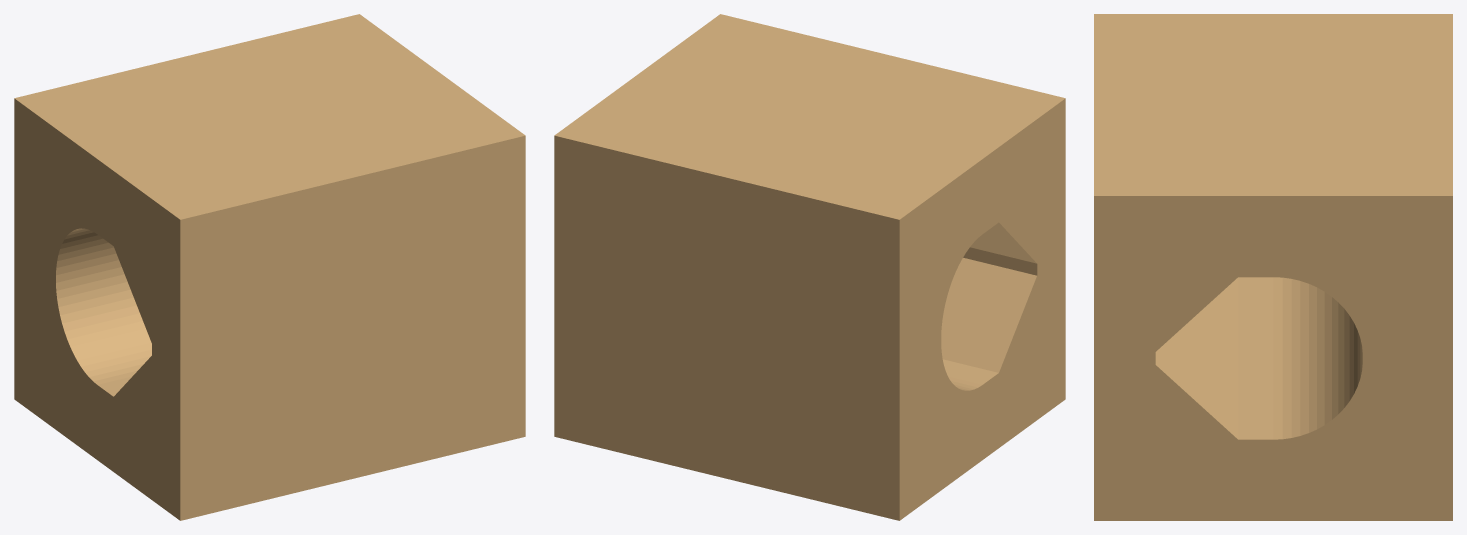
The model's file is ss_bore_demo.glb.
3 renders of one model, left to right at view 1: azimuth 30°, elevation 25°; view 2: azimuth 150°, elevation 25°; view 3: azimuth 270°, elevation 25°, orthographic. The views are drawn at different scales.
Parts seen in each view (by area): view 1: housing_cut; view 2: housing_cut; view 3: housing_cut.
Boxes of the visible parts, <box> form: housing_cut: <box>14,14,525,520</box>; housing_cut: <box>554,14,1065,520</box>; housing_cut: <box>1094,14,1452,520</box>.
Bounding box in the file's own units: 24 × 20 × 20.
